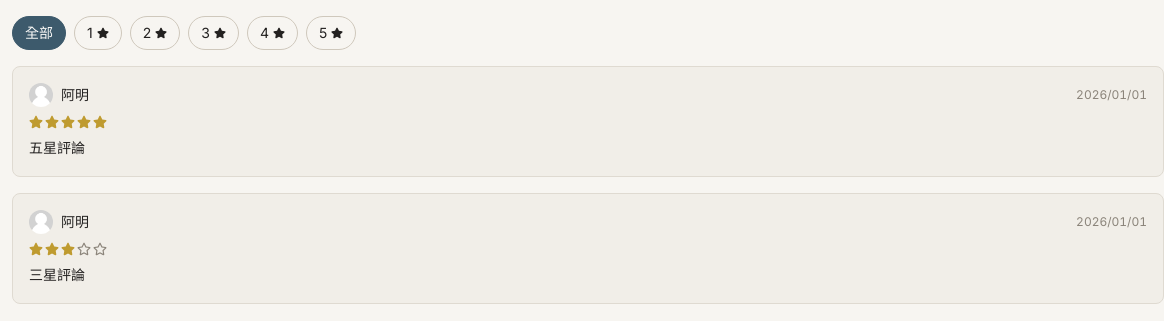
Scenario: CommentList 星等篩選 › 再點一次同一個星等會取消篩選
Click the button "5": (331, 33) [306,16,356,50]
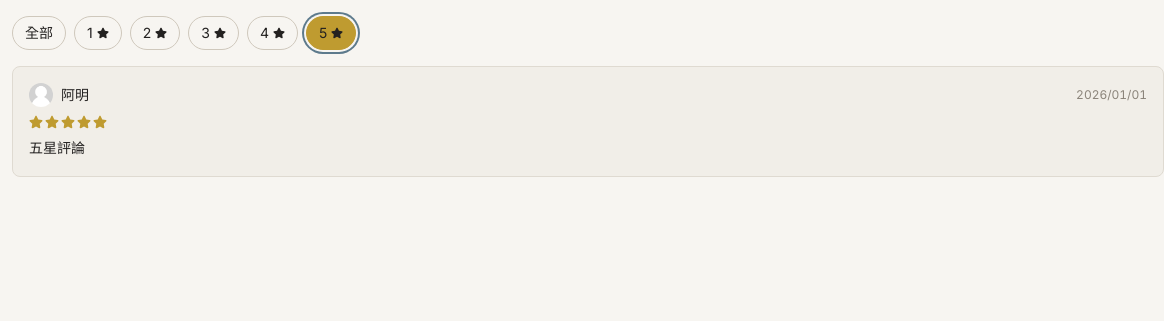
Click the button "5": (331, 33) [306,16,356,50]
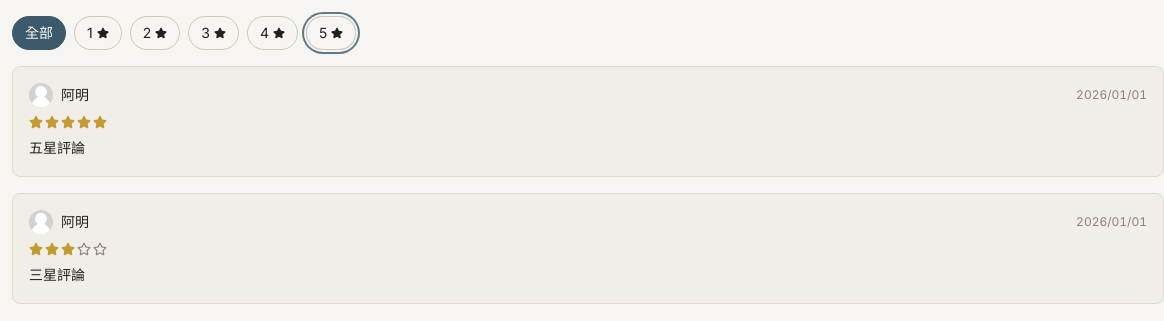
Expected: the text "三星評論" is shown, [29,266,85,283]
